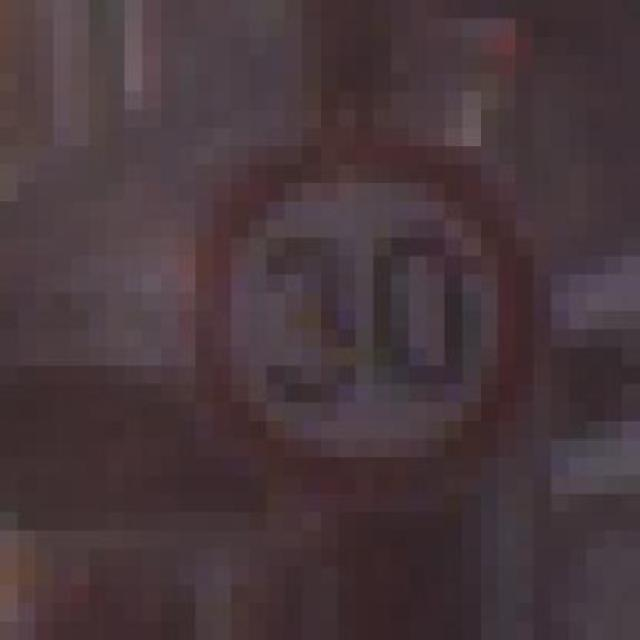Speed Limit 30 KMPh: (124, 110, 587, 567)
